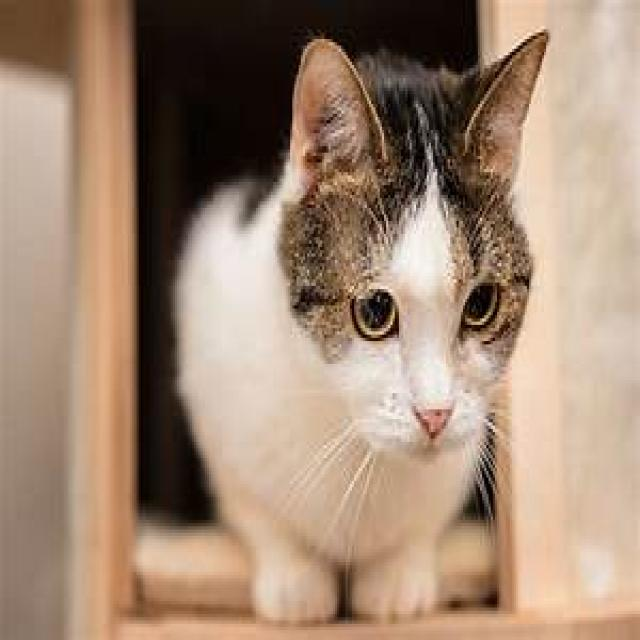animal: (173, 28, 557, 624)
